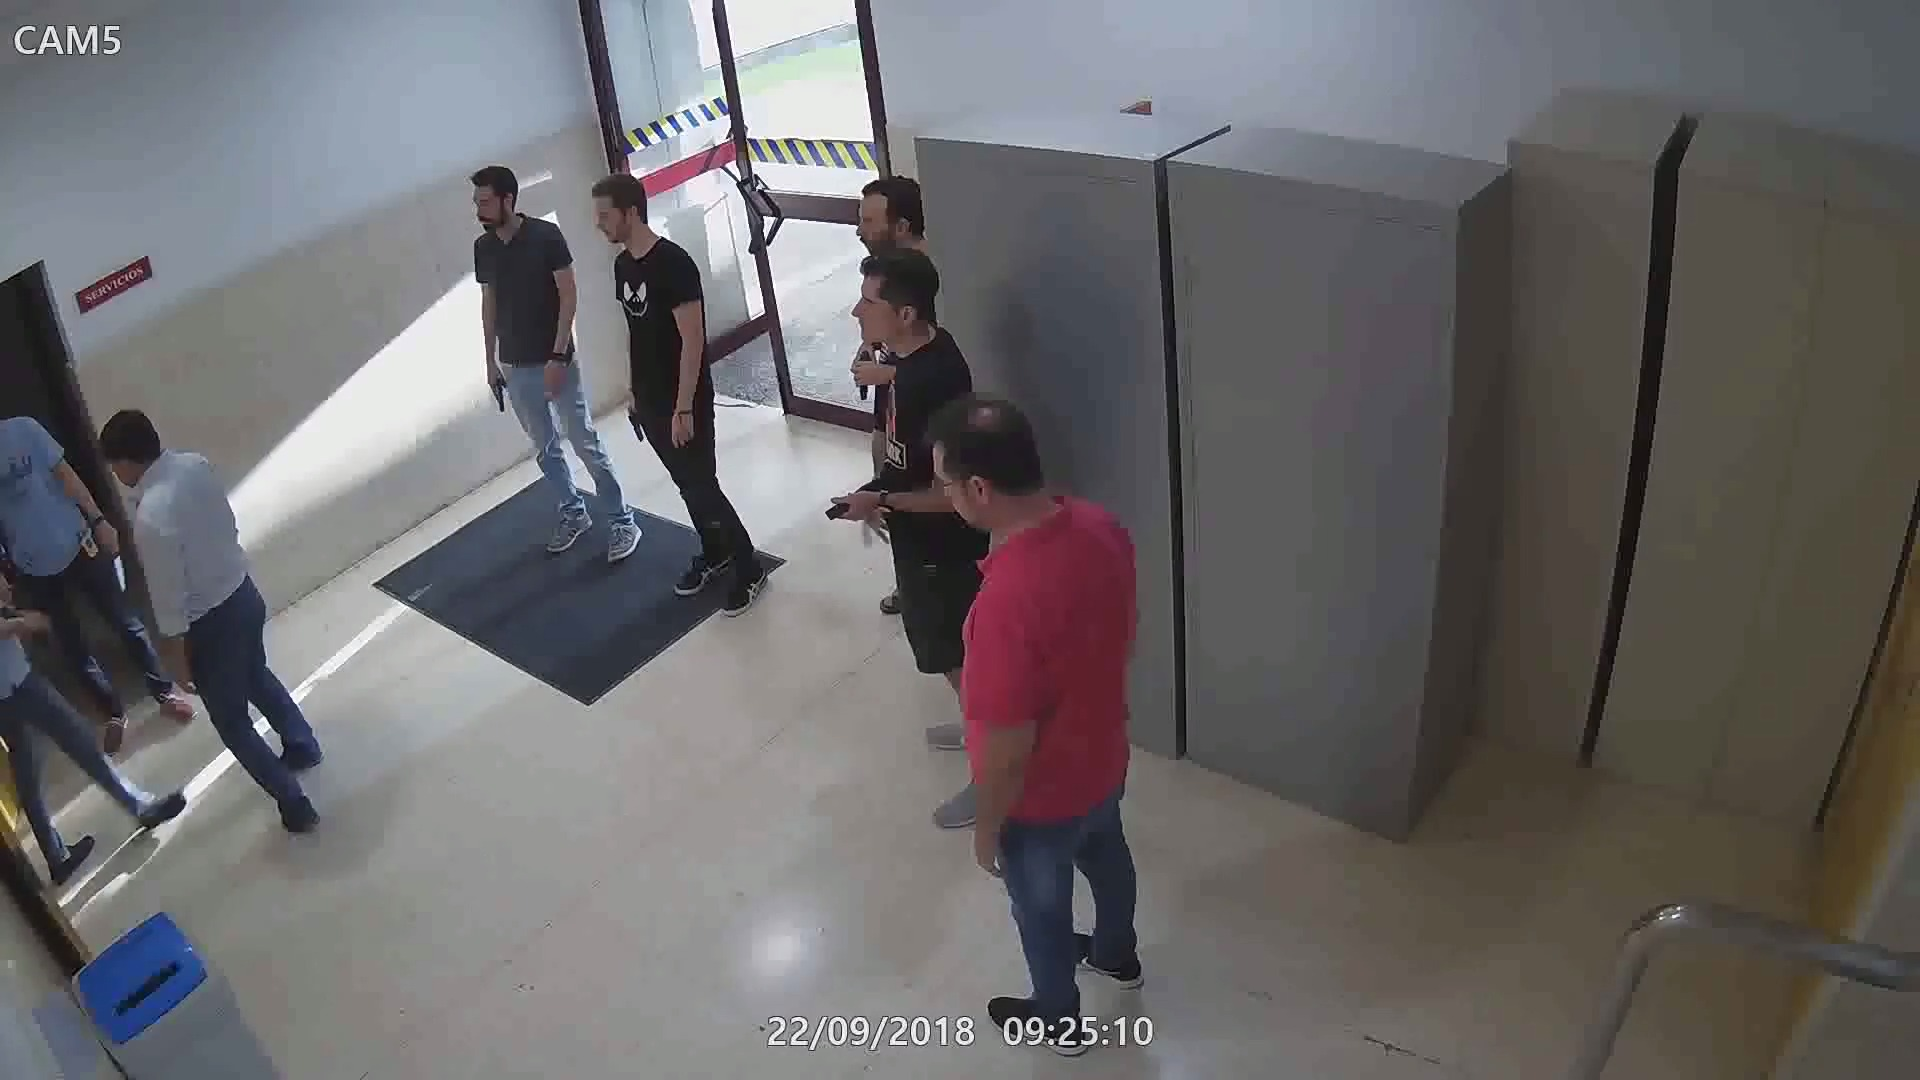Handgun: (825, 473, 885, 527), (851, 342, 880, 405), (620, 385, 647, 444), (483, 360, 510, 417)
Knife: (95, 518, 131, 593)
